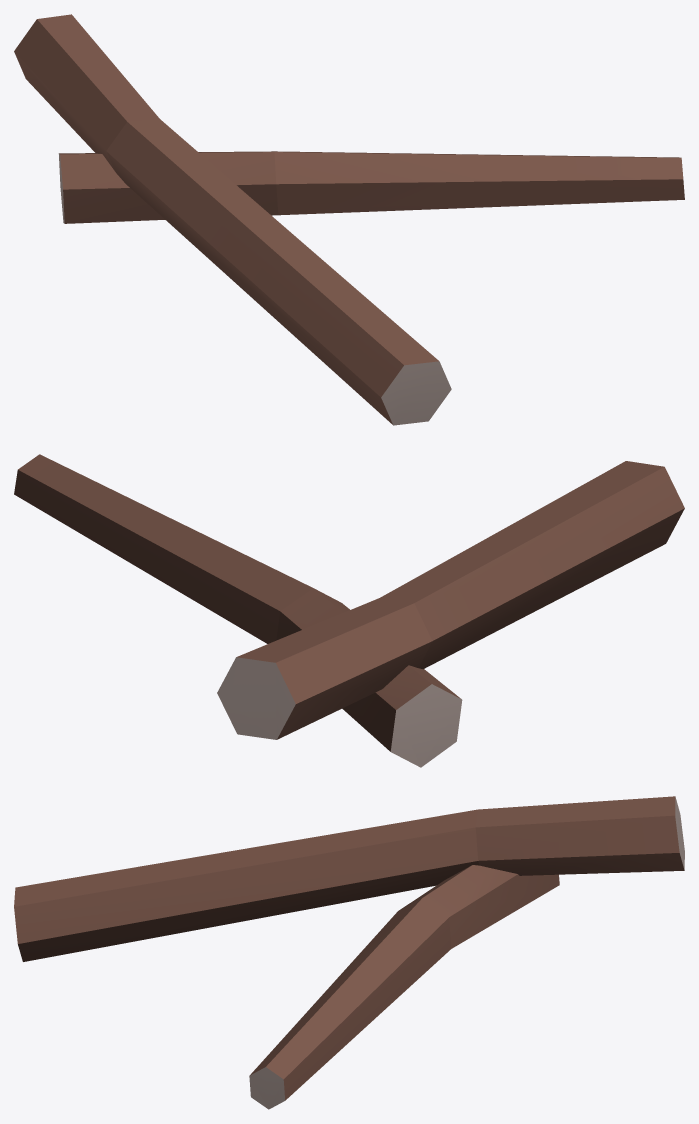
File: firewood_001.glb
3 views of the same model, one above another, from view 1: azimuth 30°, elevation 25°; view 2: azimuth 150°, elevation 25°; view 3: azimuth 270°, elevation 25° (orthographic). The views are drawn at different scales.
Parts seen in each view (by area): view 1: firewood_001; view 2: firewood_001; view 3: firewood_001.
Part boxes in pixels (<box>): firewood_001: <box>14,14,684,425</box>; firewood_001: <box>14,454,684,767</box>; firewood_001: <box>14,796,684,1109</box>.
Bounding box in the file's own units: 0.8647 × 0.2564 × 1.06.
1 material, 1 textured.
